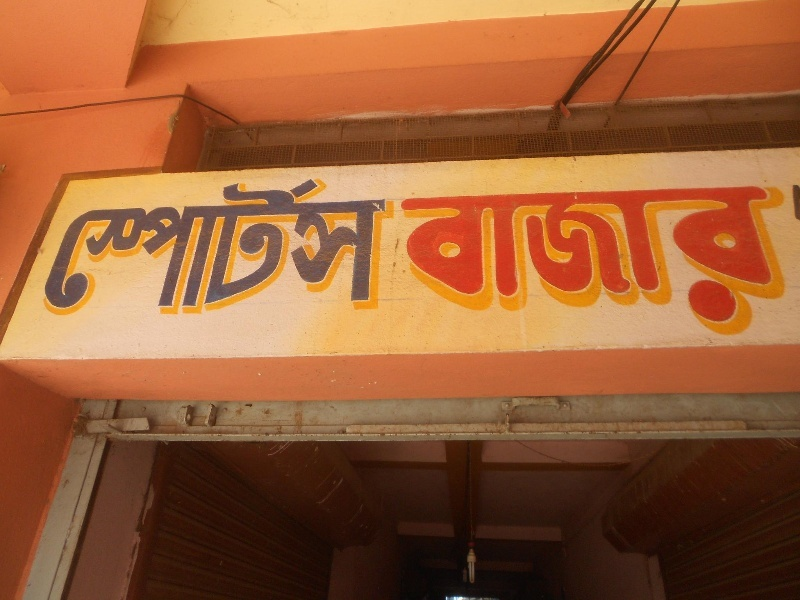text: (401, 172, 416, 338), (417, 172, 432, 338), (433, 172, 448, 338), (449, 172, 464, 338), (465, 172, 480, 338), (481, 172, 496, 338), (497, 172, 512, 338), (513, 172, 528, 338), (529, 172, 544, 338), (545, 172, 560, 338), (561, 172, 576, 338), (577, 172, 592, 338), (593, 172, 608, 338), (609, 172, 624, 338), (625, 172, 640, 338), (641, 172, 656, 338), (657, 172, 672, 338), (673, 172, 688, 338), (689, 172, 704, 338), (705, 172, 720, 338), (721, 172, 736, 338), (737, 172, 752, 338), (753, 172, 768, 338), (769, 172, 784, 338), (81, 171, 96, 317), (97, 171, 112, 317), (113, 171, 128, 317), (129, 171, 144, 317), (145, 171, 160, 317), (161, 171, 176, 317), (177, 171, 192, 317), (193, 171, 208, 317), (209, 171, 224, 317), (225, 171, 240, 317), (241, 171, 256, 317), (257, 171, 272, 317), (273, 171, 288, 317), (289, 171, 304, 317), (305, 171, 320, 317), (321, 171, 336, 317), (337, 171, 352, 317), (353, 171, 368, 317), (369, 171, 384, 317), (385, 171, 397, 317), (785, 172, 795, 338), (70, 171, 80, 317)
